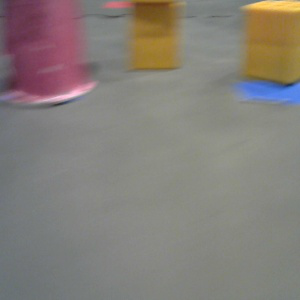middle: (1, 1, 97, 106)
